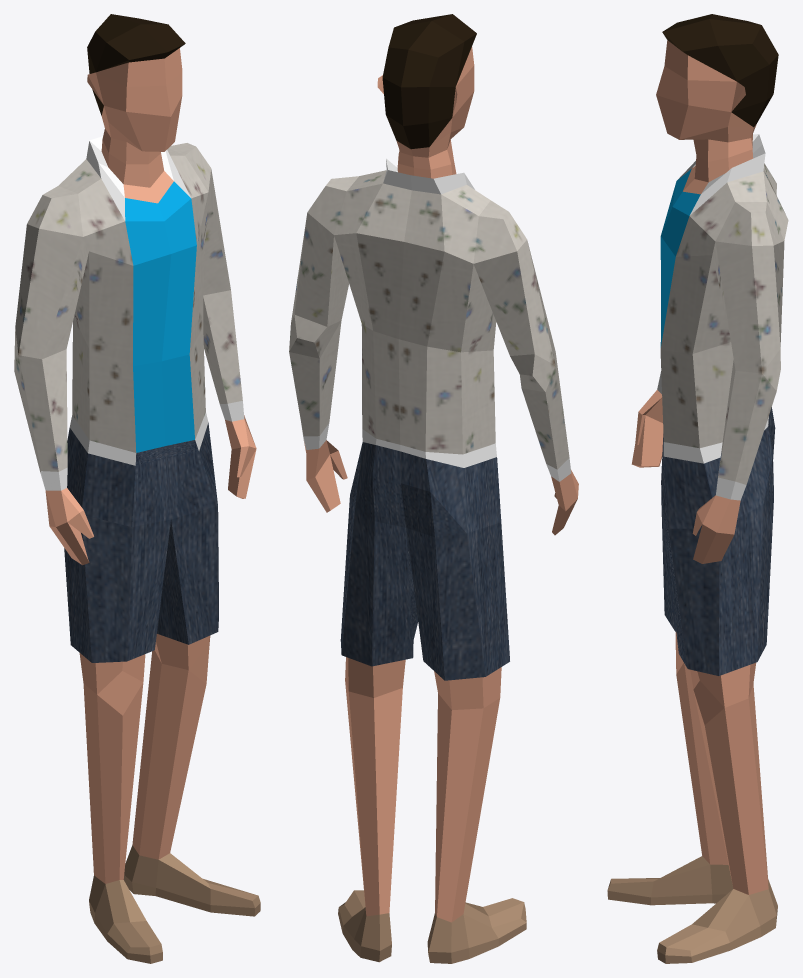
File: SpringManA.007.glb
The picture shows the model from 3 angles, left to right: view 1: azimuth 30°, elevation 25°; view 2: azimuth 150°, elevation 25°; view 3: azimuth 270°, elevation 25°; orthographic projection. The views are drawn at different scales.
Visible parts, largest first — view 1: SpringManA.007; view 2: SpringManA.007; view 3: SpringManA.007.
Part boxes in pixels (box(x1,y1,x2,y2)): SpringManA.007: box(14, 14, 260, 963); SpringManA.007: box(289, 14, 578, 963); SpringManA.007: box(607, 14, 788, 963).
Size of the model in its own units: 0.4821 by 1.75 by 0.3198.
1 material, 1 textured.
